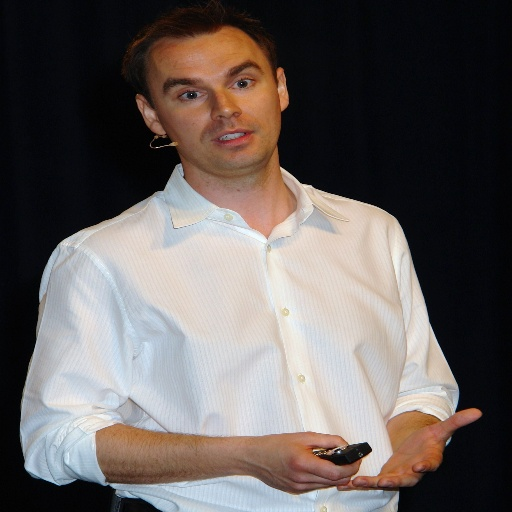hand: (336, 406, 483, 493), (209, 429, 389, 493)
